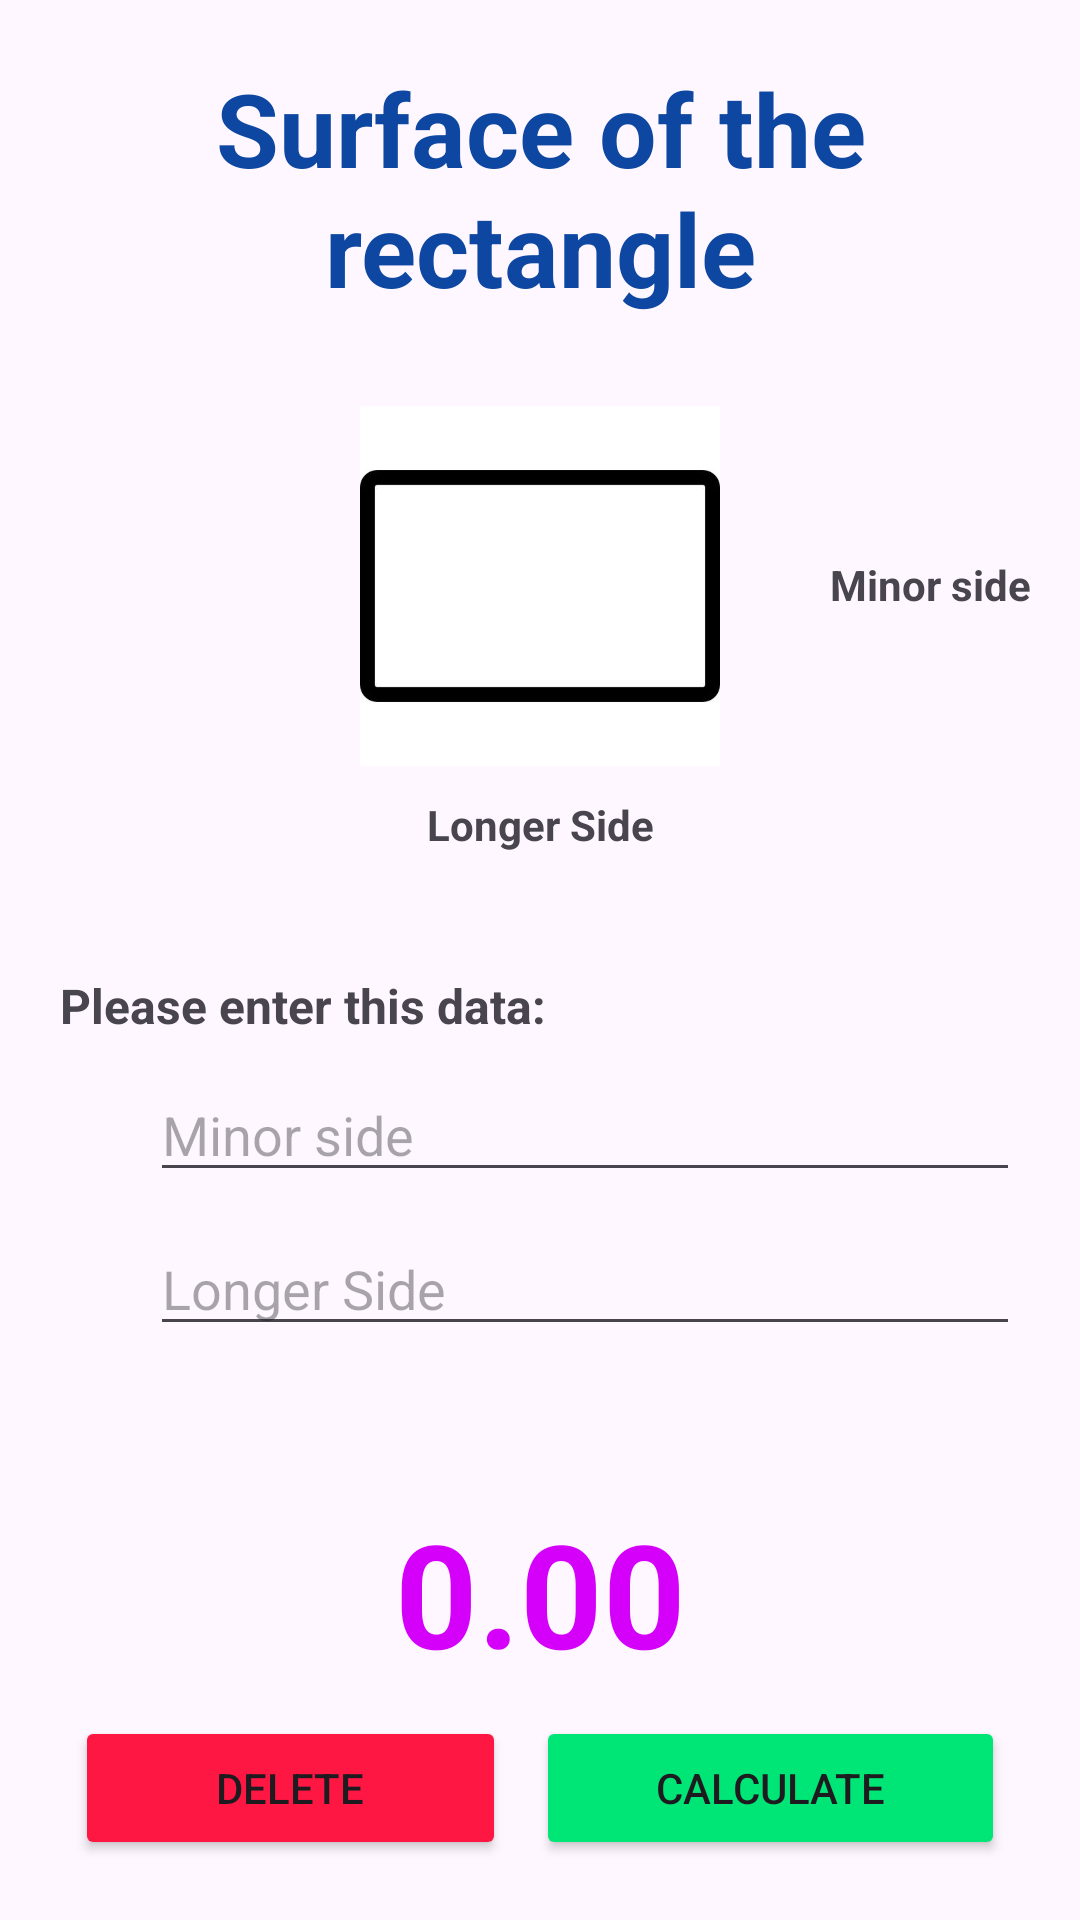

Point at icon controls on the screen. Image size 1080w x 1920h, points as point (x, y).
rectangulo: point (540, 586)
